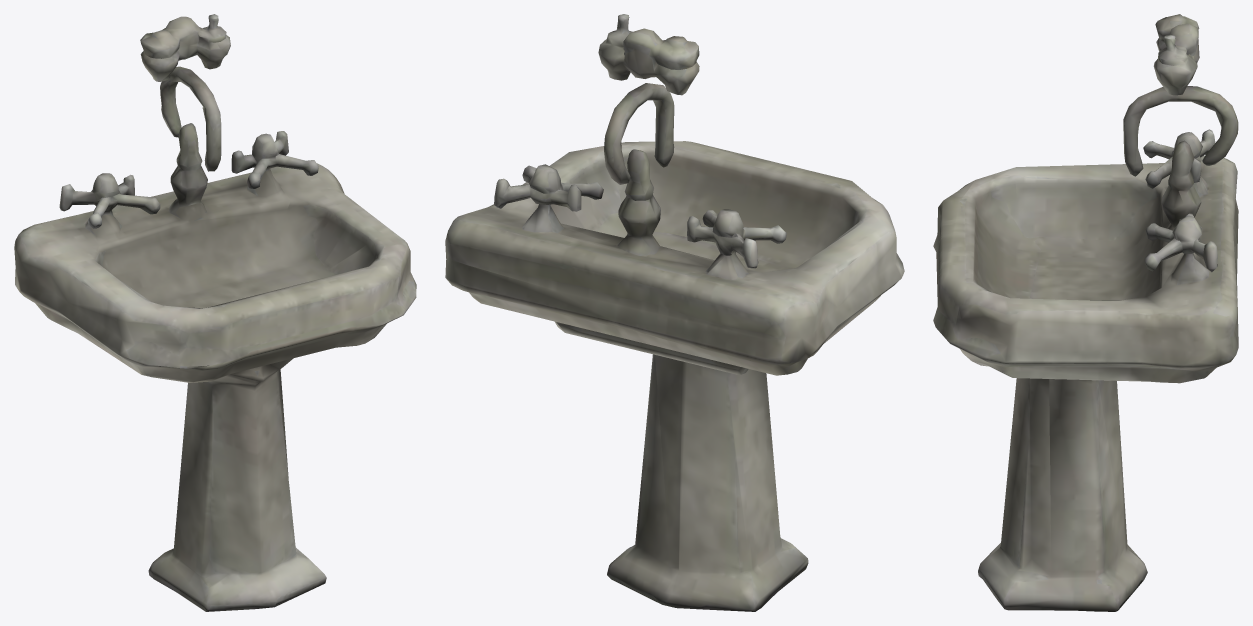
File: ornate-white-painted-washbasin-v001.glb
The picture shows the model from 3 angles, left to right: view 1: azimuth 30°, elevation 25°; view 2: azimuth 150°, elevation 25°; view 3: azimuth 270°, elevation 25°; orthographic projection. The views are drawn at different scales.
Visible parts, largest first — view 1: ornate-white-painted-washbasin; view 2: ornate-white-painted-washbasin; view 3: ornate-white-painted-washbasin.
Boxes of the visible parts, box(x1,y1,x2,y2) form: ornate-white-painted-washbasin: box(14, 14, 416, 611); ornate-white-painted-washbasin: box(445, 14, 904, 611); ornate-white-painted-washbasin: box(933, 14, 1238, 611).
Size of the model in its own units: 0.6177 by 0.9684 by 0.481.
Materials: 1 (1 with a texture image).
